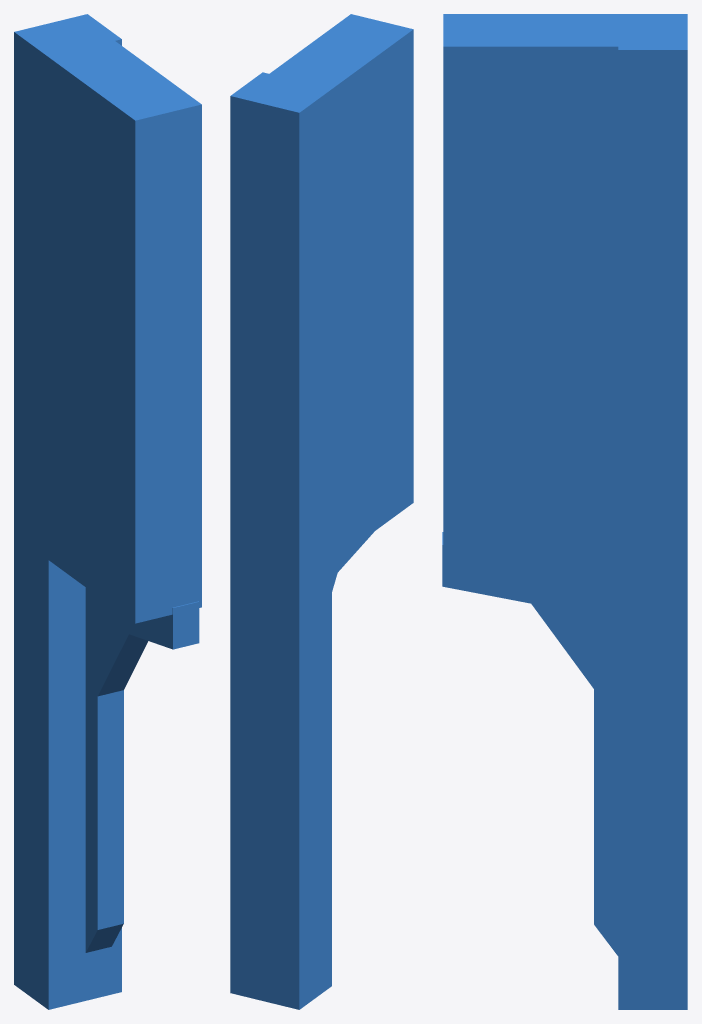
Rendered from Collision_Overhang_Side_UnevenBrick_Short_R.fbx.
3 views of the same model, side by side, from view 1: azimuth 30°, elevation 25°; view 2: azimuth 150°, elevation 25°; view 3: azimuth 270°, elevation 25° (orthographic). The views are drawn at different scales.
Visible parts, largest first — view 1: UCX_Overhang_Side_UnevenBrick_Short_R_01; view 2: UCX_Overhang_Side_UnevenBrick_Short_R_01; view 3: UCX_Overhang_Side_UnevenBrick_Short_R_01.
Boxes of the visible parts, x1,y1,x2,y2 form: UCX_Overhang_Side_UnevenBrick_Short_R_01: (14, 14, 201, 1009); UCX_Overhang_Side_UnevenBrick_Short_R_01: (230, 14, 413, 1009); UCX_Overhang_Side_UnevenBrick_Short_R_01: (442, 14, 687, 1009).
Bounding box in the file's own units: 49.25 × 613 × 142.
